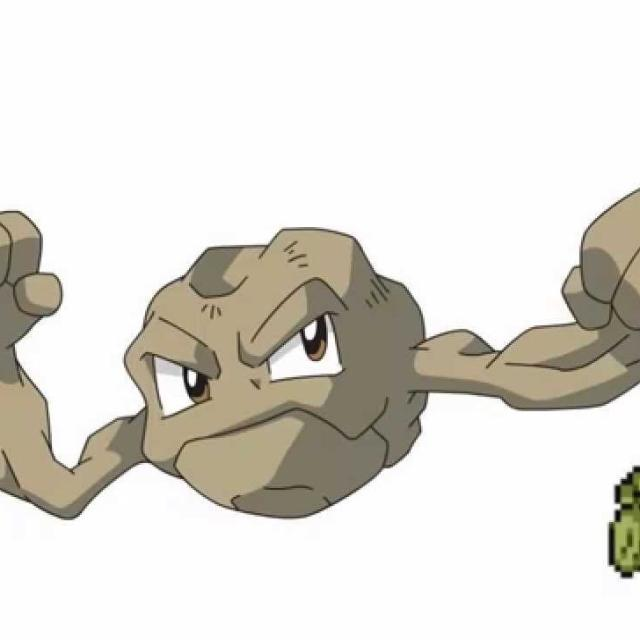Geodude: (0, 221, 628, 514)
